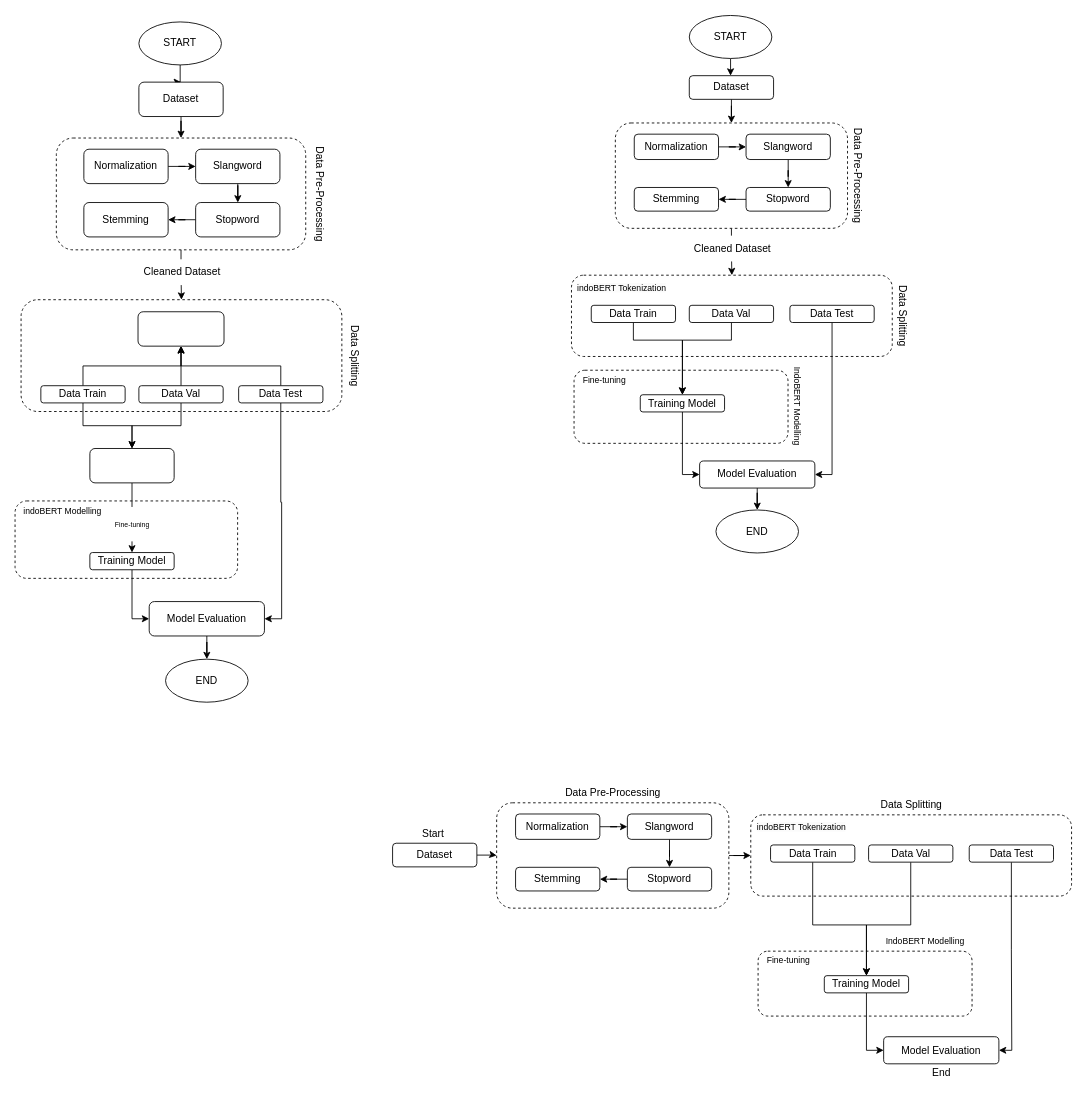
This 1087x1100 diagram has some shape labels left out. Each missing label, with the centre of its shape:
indoBERT Tokenizing: the point at 180,328
Pre-Trained: the point at 131,465
